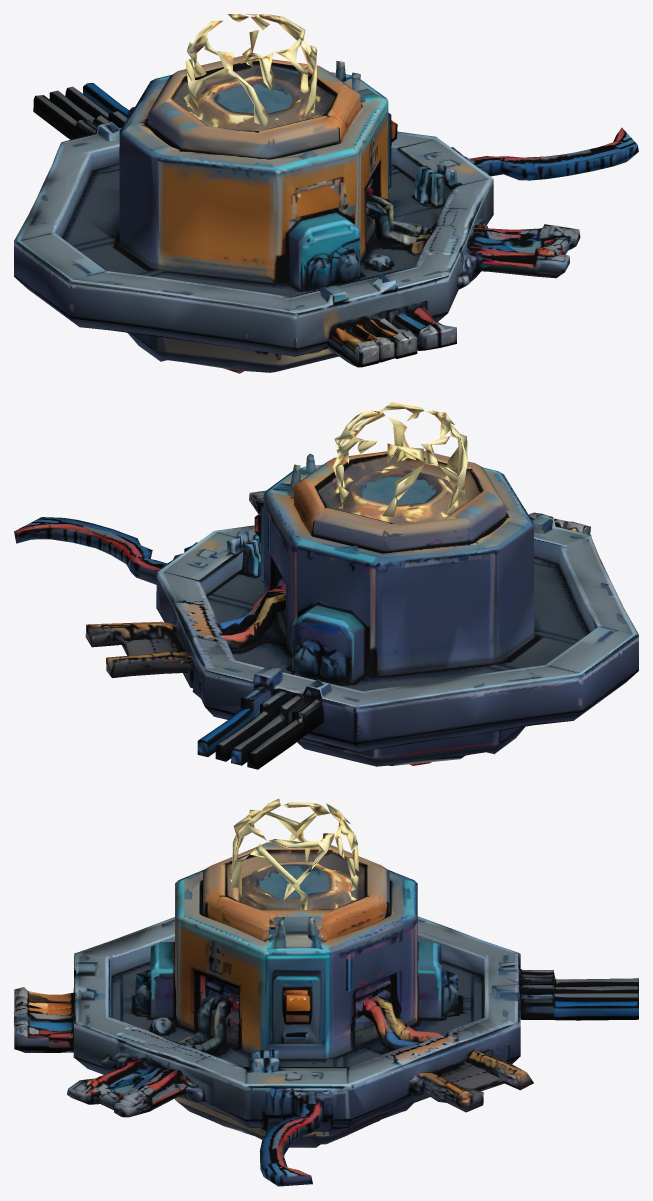
File: futuristic+power+core+3d+model.obj
3 renders of one model, top to bottom at view 1: azimuth 30°, elevation 25°; view 2: azimuth 150°, elevation 25°; view 3: azimuth 270°, elevation 25°, orthographic. The views are drawn at different scales.
Parts seen in each view (by area): view 1: tripo_node_79c75bd8-56a0-44b2-99a1-ac6b7988a05f; view 2: tripo_node_79c75bd8-56a0-44b2-99a1-ac6b7988a05f; view 3: tripo_node_79c75bd8-56a0-44b2-99a1-ac6b7988a05f.
Boxes of the visible parts, x1=… form: tripo_node_79c75bd8-56a0-44b2-99a1-ac6b7988a05f: x1=14, y1=14, x2=638, y2=373; tripo_node_79c75bd8-56a0-44b2-99a1-ac6b7988a05f: x1=14, y1=402, x2=638, y2=769; tripo_node_79c75bd8-56a0-44b2-99a1-ac6b7988a05f: x1=14, y1=798, x2=638, y2=1186.
Bounding box in the file's own units: 0.9999 × 0.5224 × 0.9716.
1 material, 1 textured.
